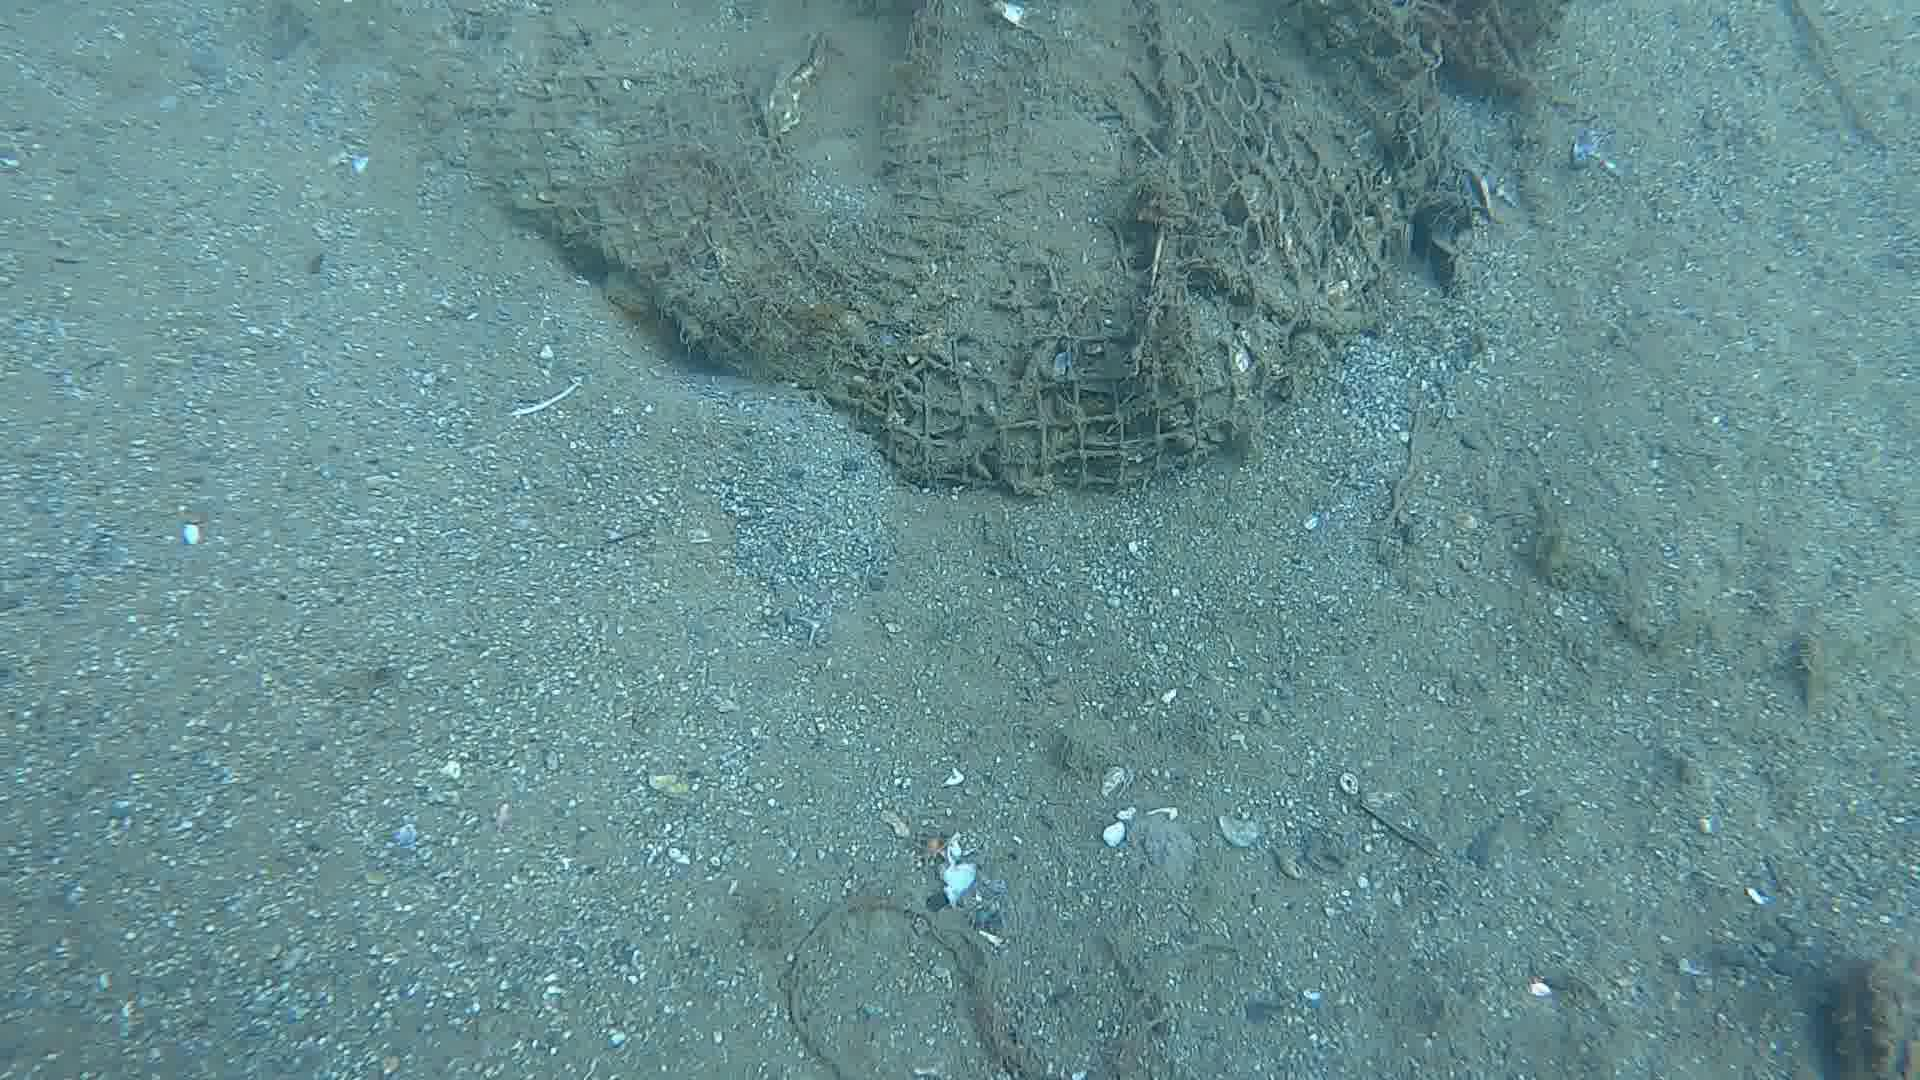fish net: (467, 0, 1447, 502)
